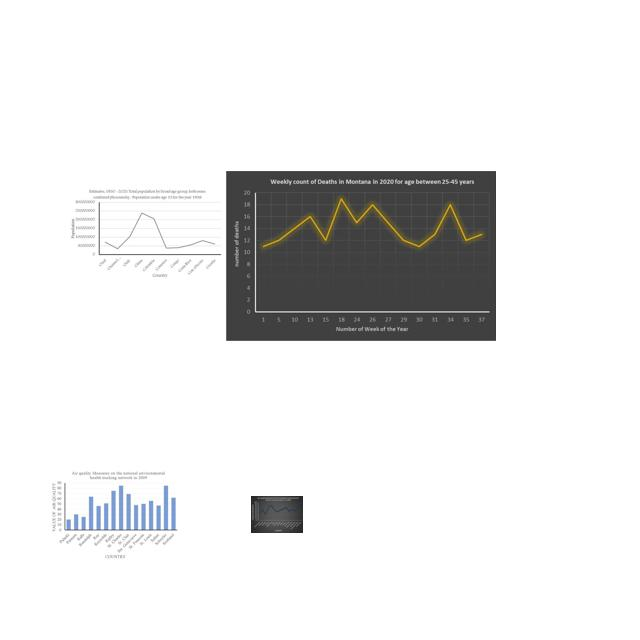Graph: (226, 171, 496, 341), (70, 188, 224, 279), (49, 468, 180, 561), (251, 496, 303, 533)
